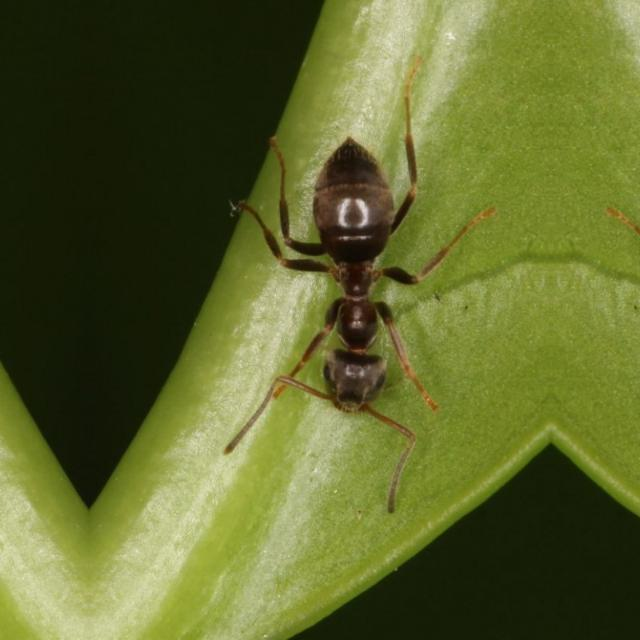Lasius: (205, 116, 480, 464)
